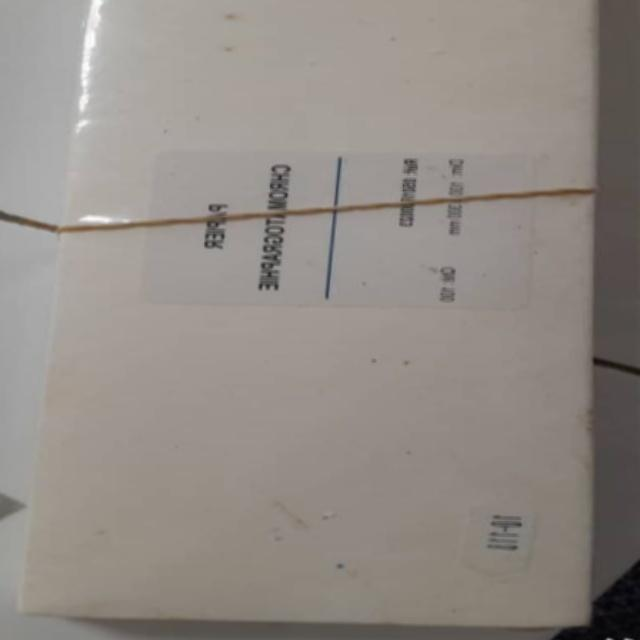Paper Chromatography: (33, 0, 596, 626)
